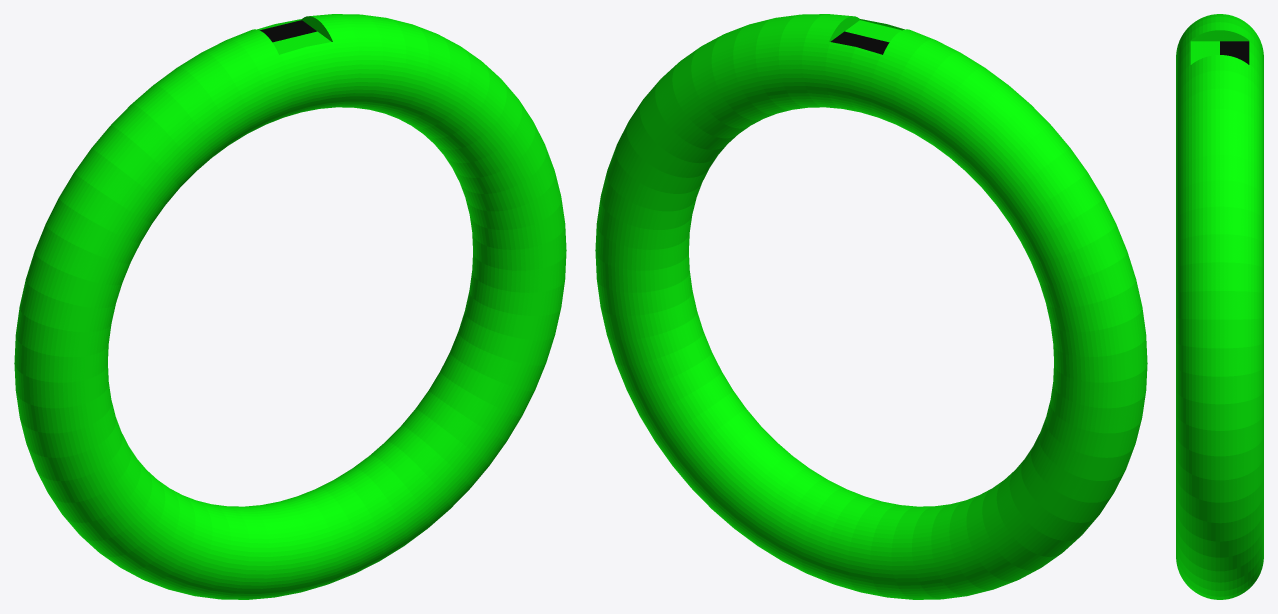
File: active.dae
The picture shows the model from 3 angles, left to right: view 1: azimuth 30°, elevation 25°; view 2: azimuth 150°, elevation 25°; view 3: azimuth 270°, elevation 25°; orthographic projection. The views are drawn at different scales.
Parts seen in each view (by area): view 1: skp88C4; view 2: skp88C4; view 3: skp88C4 (×2).
Part boxes in pixels (bbox=[...]): skp88C4: bbox=[14, 14, 566, 599]; skp88C4: bbox=[595, 14, 1147, 599]; skp88C4 (×2): bbox=[1176, 14, 1263, 599].
Size of the model in its own units: 1575 by 236 by 1571.
